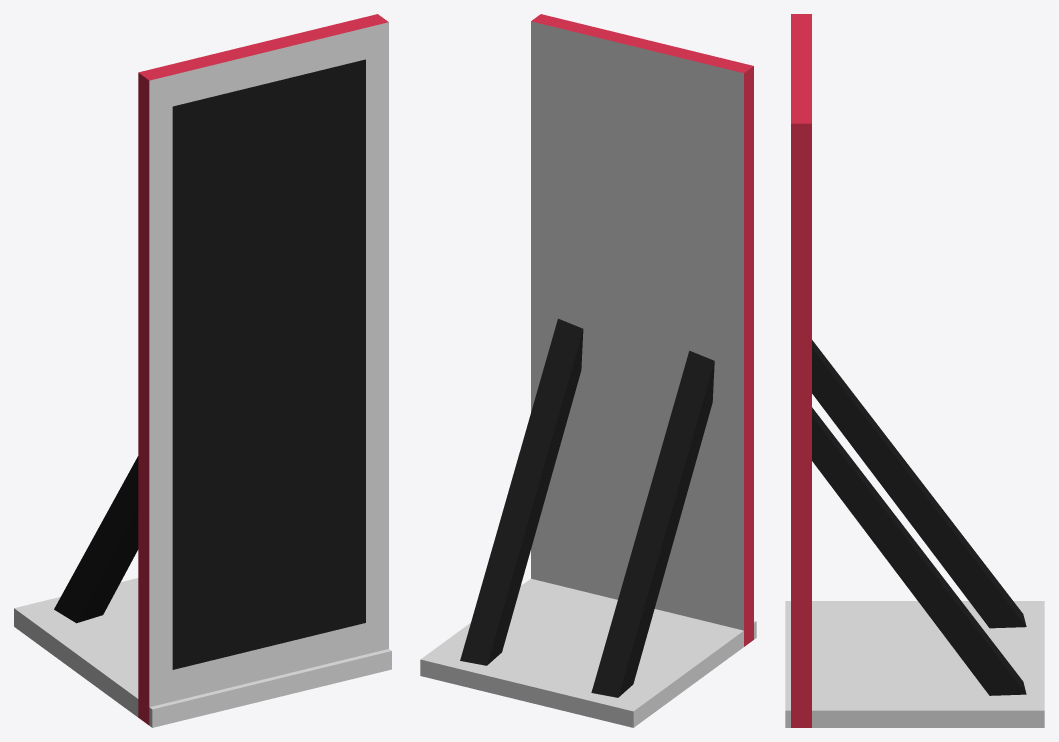
The model's file is Fence_01.fbx.
The picture shows the model from 3 angles, left to right: view 1: azimuth 30°, elevation 25°; view 2: azimuth 150°, elevation 25°; view 3: azimuth 270°, elevation 25°; orthographic projection. The views are drawn at different scales.
Visible parts, largest first — view 1: Fence; view 2: Fence; view 3: Fence.
Part boxes in pixels (bbox=[...]): Fence: bbox=[14, 14, 391, 727]; Fence: bbox=[420, 14, 756, 727]; Fence: bbox=[785, 14, 1044, 727].
Size of the model in its own units: 200 by 522 by 200.
